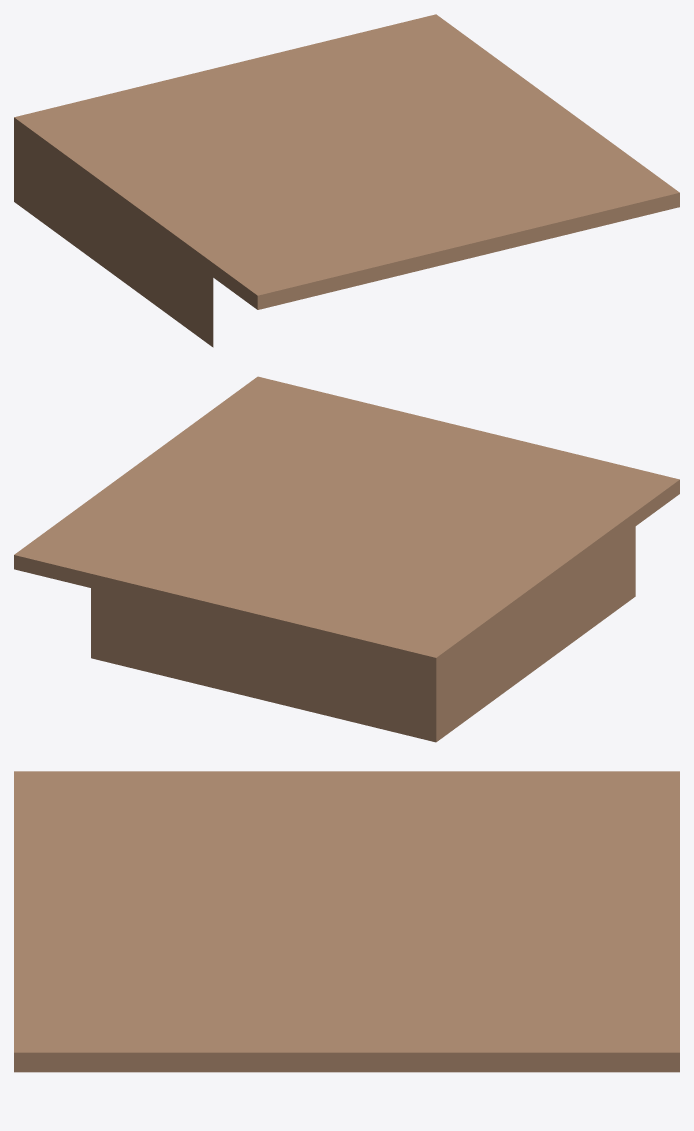
Rendered from env_block_brick_corner_column_cap_short.glb.
The picture shows the model from 3 angles, top to bottom: view 1: azimuth 30°, elevation 25°; view 2: azimuth 150°, elevation 25°; view 3: azimuth 270°, elevation 25°; orthographic projection. The views are drawn at different scales.
Parts seen in each view (by area): view 1: geometry_0; view 2: geometry_0; view 3: geometry_0.
Part boxes in pixels (bbox=[...]): geometry_0: bbox=[14, 14, 679, 347]; geometry_0: bbox=[14, 376, 679, 742]; geometry_0: bbox=[14, 771, 679, 1072].
Size of the model in its own units: 1.26 by 0.2411 by 1.26.
